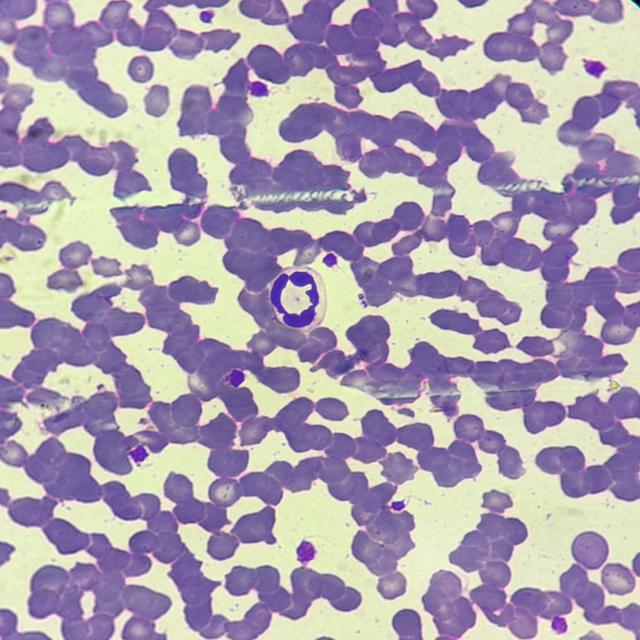Neutrofilo: (268, 267, 323, 332)
